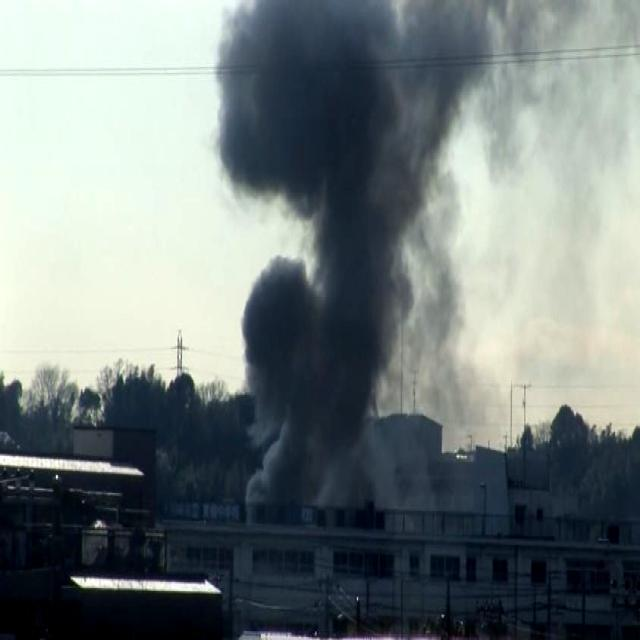Smoke: (204, 3, 493, 473)
